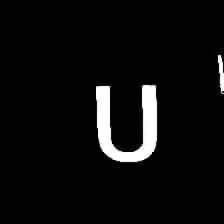LTR_U: (84, 76, 161, 168)
